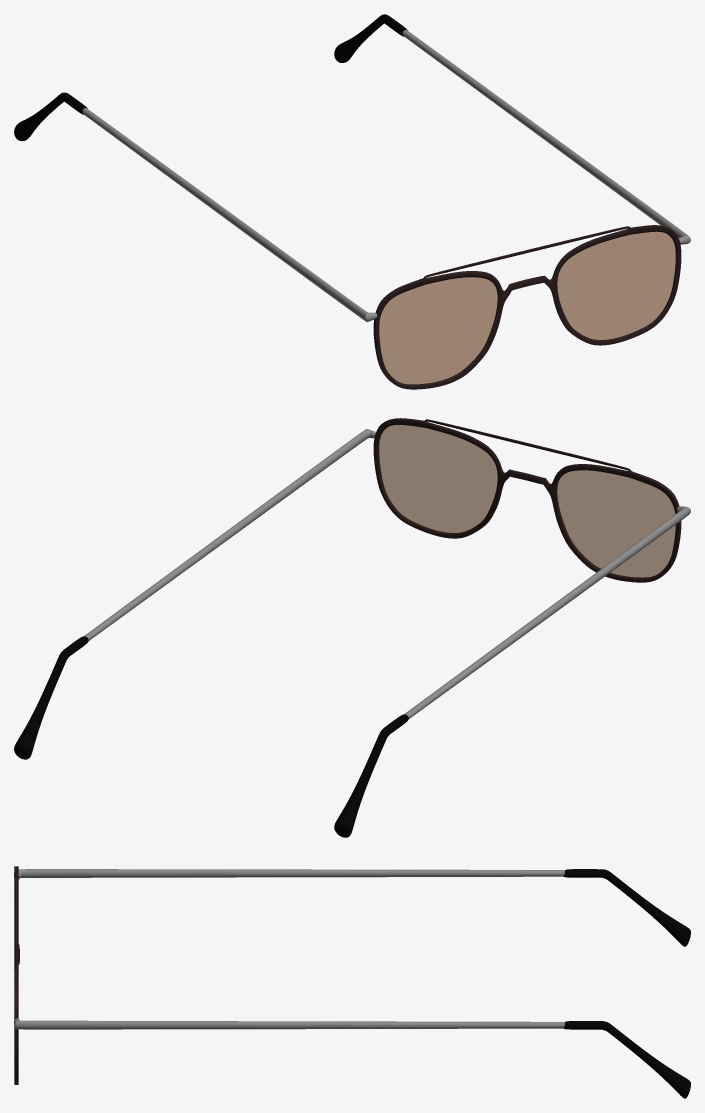
The model's file is glasses-13.glb.
3 views of the same model, one above another, from view 1: azimuth 30°, elevation 25°; view 2: azimuth 150°, elevation 25°; view 3: azimuth 270°, elevation 25° (orthographic). The views are drawn at different scales.
Parts seen in each view (by area): view 1: Plane.001, Plane, Cylinder.001, Cylinder; view 2: Plane.001, Plane, Cylinder, Cylinder.001; view 3: Cylinder, Cylinder.001, Plane.
Part boxes in pixels (left/top/right/bottom): Plane.001: left=379, top=231, right=675, bottom=384; Plane: left=373, top=225, right=681, bottom=389; Cylinder.001: left=14, top=92, right=377, bottom=321; Cylinder: left=334, top=14, right=690, bottom=244; Plane.001: left=378, top=425, right=675, bottom=577; Plane: left=373, top=418, right=681, bottom=582; Cylinder: left=14, top=429, right=375, bottom=759; Cylinder.001: left=334, top=506, right=690, bottom=837; Cylinder: left=14, top=1018, right=690, bottom=1098; Cylinder.001: left=14, top=869, right=690, bottom=946; Plane: left=14, top=866, right=19, bottom=1084.
Size of the model in its own units: 17.01 by 5.49 by 30.46.
